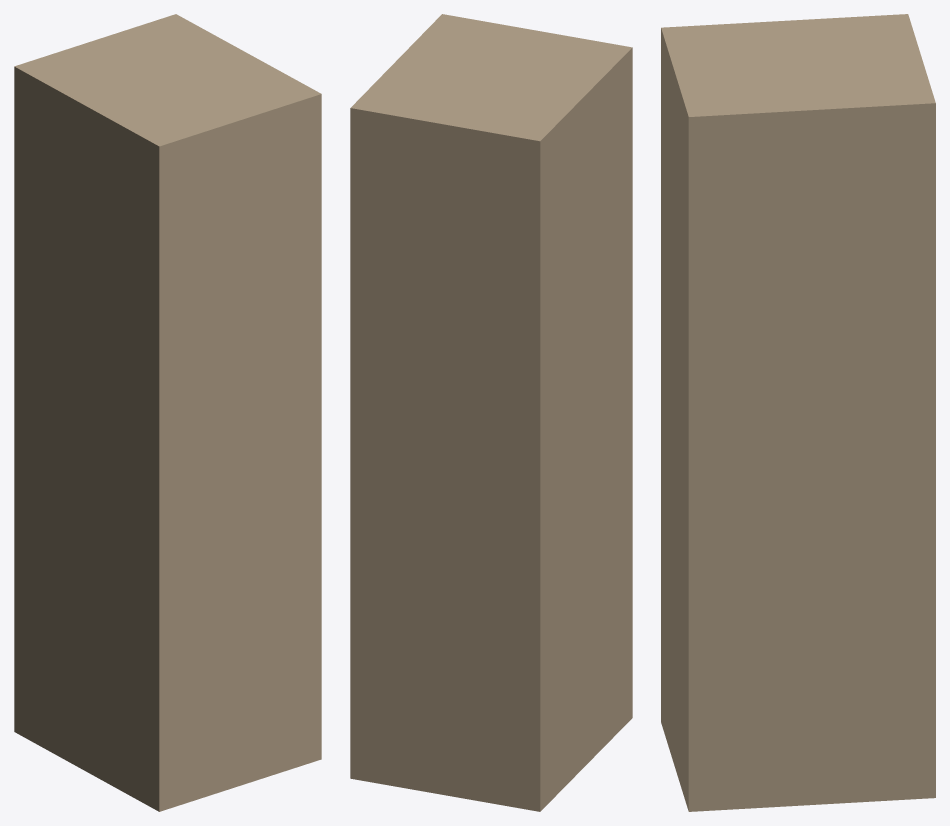
Rendered from bld_393483743.dae.
The picture shows the model from 3 angles, left to right: view 1: azimuth 30°, elevation 25°; view 2: azimuth 150°, elevation 25°; view 3: azimuth 270°, elevation 25°; orthographic projection. The views are drawn at different scales.
Parts seen in each view (by area): view 1: bld_393483743; view 2: bld_393483743; view 3: bld_393483743.
Boxes of the visible parts, x1,y1,x2,y2 form: bld_393483743: [14, 14, 321, 811]; bld_393483743: [350, 14, 632, 811]; bld_393483743: [661, 14, 935, 811].
Size of the model in its own units: 2.55 by 2.87 by 8.
